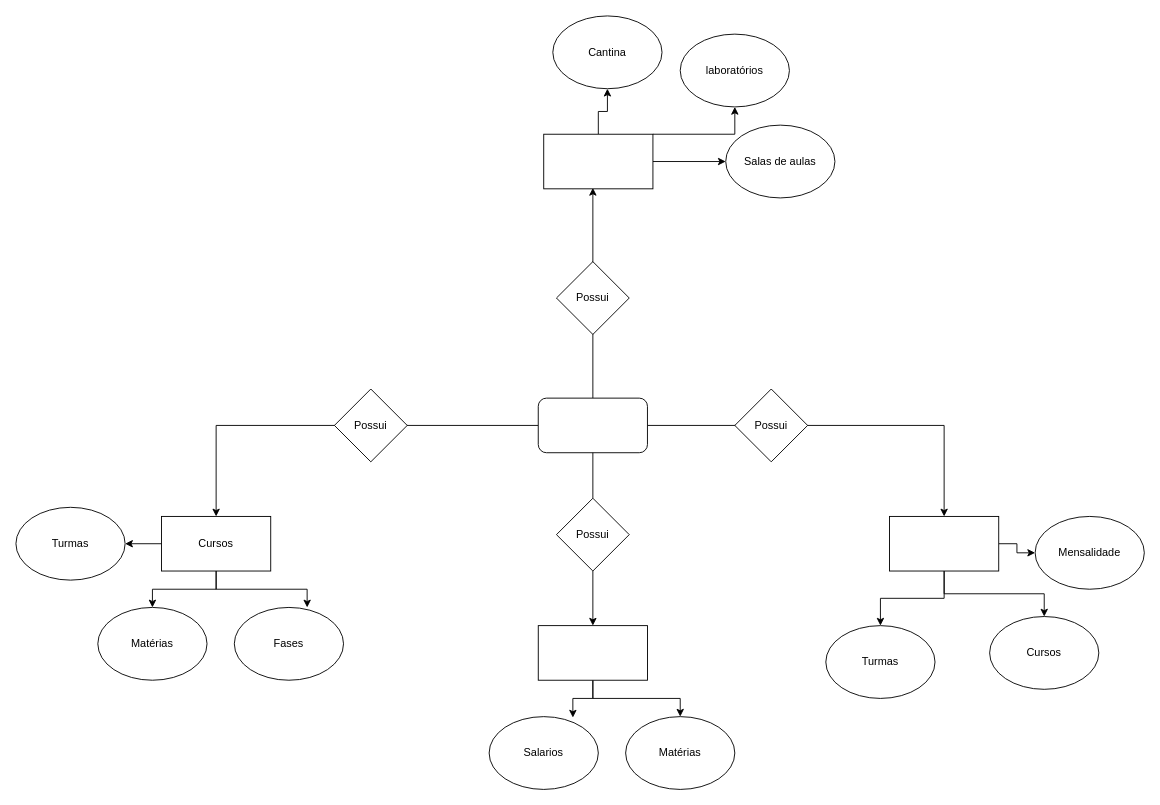
Some shapes in this 1160 by 805 pixel diagram are drawn without their labels. Here are the shapes that lost their labels. From the top down, the centre of each, then its label:
the point at 598,161: Estrutura
the point at 592,425: Sistema de Universidade
the point at 944,543: Alunos
the point at 592,652: Professores
